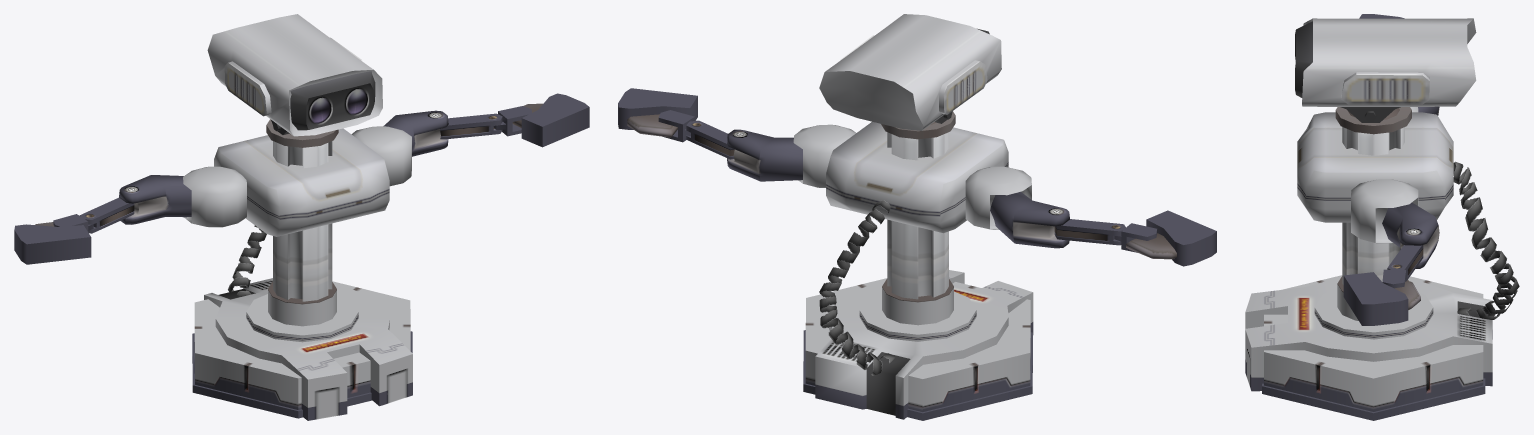
The model's file is ROB.fbx.
3 views of the same model, side by side, from view 1: azimuth 30°, elevation 25°; view 2: azimuth 150°, elevation 25°; view 3: azimuth 270°, elevation 25° (orthographic). The views are drawn at different scales.
Visible parts, largest first — view 1: polySurface21; view 2: polySurface21; view 3: polySurface21.
Part boxes in pixels (<box>): polySurface21: <box>14,14,589,420</box>; polySurface21: <box>618,14,1216,420</box>; polySurface21: <box>1245,14,1519,420</box>.
Size of the model in its own units: 21.78 by 11.49 by 8.7.
